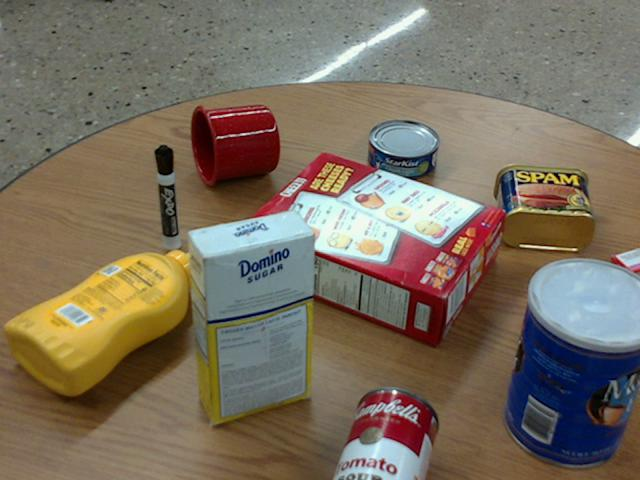cracker_box: (245, 152, 502, 341)
gelatin_box: (595, 246, 639, 327)
large_marker: (155, 145, 179, 249)
master_chef_can: (503, 258, 639, 466)
mug: (190, 104, 279, 186)
mustard_bottle: (8, 250, 203, 394)
potted_meat_can: (494, 162, 594, 251)
sugar_box: (187, 212, 313, 422)
tomato_soup_can: (335, 386, 438, 479)
tuna_fish_can: (368, 119, 439, 177)
